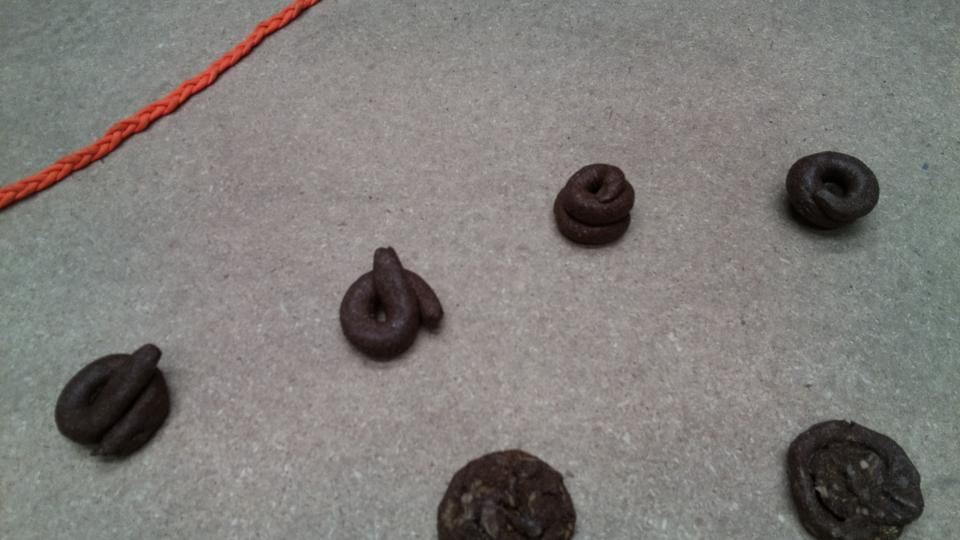poop: (781, 413, 928, 539), (50, 341, 178, 464), (435, 444, 579, 540), (337, 244, 448, 364), (782, 148, 883, 238), (550, 159, 638, 252)
rope: (1, 1, 304, 195)
